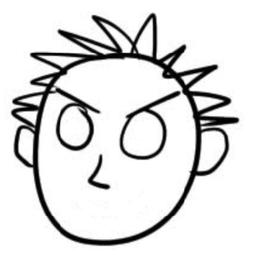ear: (193, 126, 232, 174), (12, 123, 37, 171)
empty_eye: (118, 107, 171, 172), (52, 100, 95, 151)
frowning_eyebrow: (126, 86, 181, 117), (56, 89, 101, 114)
pointy_nose: (84, 151, 112, 191)
